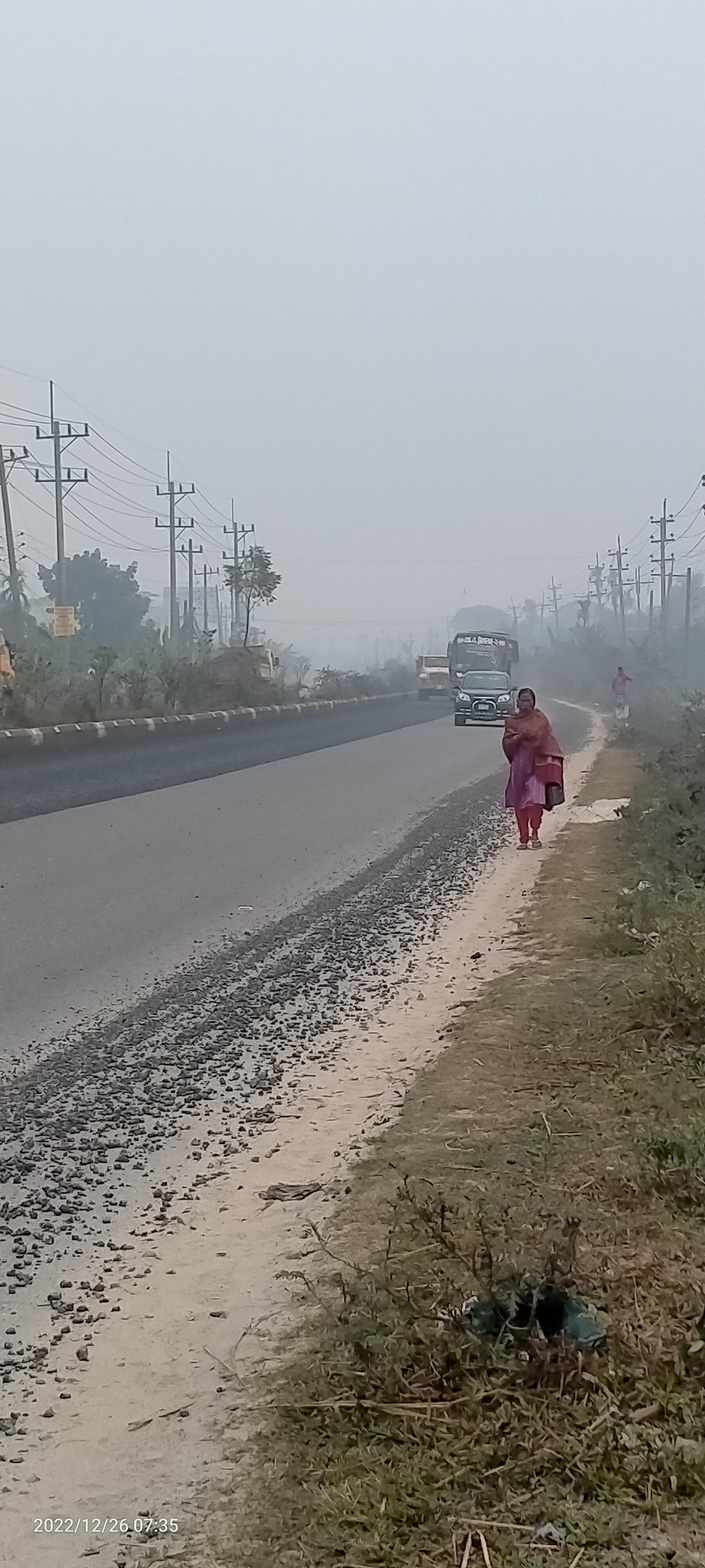Bus: (447, 628, 526, 708)
Car: (449, 663, 518, 730)
Truck: (199, 632, 289, 713), (414, 648, 461, 706)
